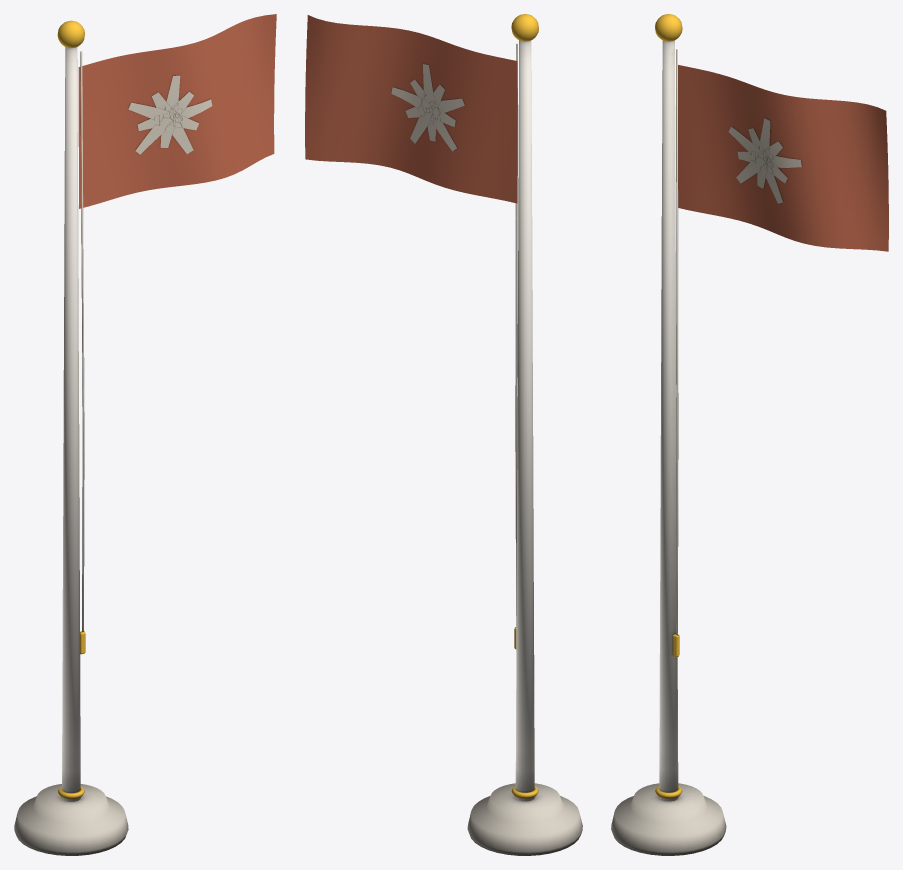
The model's file is flag_pole.glb.
The picture shows the model from 3 angles, left to right: view 1: azimuth 30°, elevation 25°; view 2: azimuth 150°, elevation 25°; view 3: azimuth 330°, elevation 25°; orthographic projection.
Parts seen in each view (by area): view 1: Flag, flag_pole; view 2: Flag, flag_pole; view 3: Flag, flag_pole.
Boxes of the visible parts, x1,y1,x2,y2 form: Flag: (78,14,276,208); flag_pole: (14,20,128,855); Flag: (305,15,517,203); flag_pole: (467,14,582,855); Flag: (678,65,888,251); flag_pole: (611,14,726,855).
Size of the model in its own units: 1.73 by 5.15 by 0.66.
6 materials, 6 textured.
